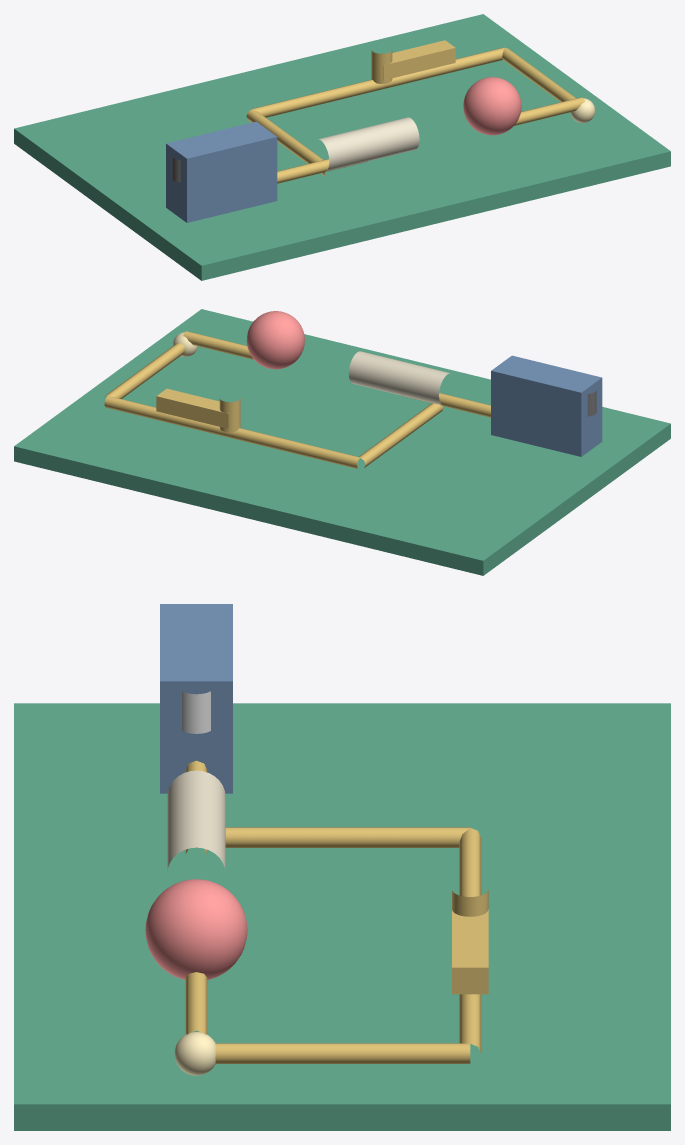
The model's file is circuit-board.glb.
3 views of the same model, one above another, from view 1: azimuth 30°, elevation 25°; view 2: azimuth 150°, elevation 25°; view 3: azimuth 270°, elevation 25° (orthographic). The views are drawn at different scales.
Parts seen in each view (by area): view 1: pcb_board, battery, resistor, led, wire_5, switch_contact, wire_3, wire_6, wire_4, wire_2, wire_1, switch_pivot; view 2: pcb_board, battery, resistor, led, wire_5, switch_contact, wire_6, wire_3, wire_4, wire_2, wire_1, switch_pivot; view 3: pcb_board, battery, led, wire_3, wire_6, resistor, switch_contact, current_node, wire_5, wire_2, wire_4, battery_positive (+1 smaller).
Boxes of the visible parts, left/top/right/bottom form: pcb_board: left=14, top=14, right=670, bottom=280; battery: left=166, top=121, right=277, bottom=222; resistor: left=318, top=117, right=419, bottom=171; led: left=463, top=77, right=521, bottom=135; wire_5: left=251, top=72, right=417, bottom=117; switch_contact: left=383, top=40, right=455, bottom=80; wire_3: left=502, top=48, right=576, bottom=101; wire_6: left=246, top=109, right=325, bottom=176; wire_4: left=416, top=47, right=504, bottom=80; wire_2: left=514, top=97, right=584, bottom=125; wire_1: left=277, top=159, right=367, bottom=183; switch_pivot: left=371, top=50, right=392, bottom=83; pcb_board: left=14, top=309, right=670, bottom=575; battery: left=491, top=355, right=602, bottom=456; resistor: left=348, top=351, right=449, bottom=405; led: left=246, top=311, right=304, bottom=369; wire_5: left=194, top=421, right=359, bottom=468; switch_contact: left=156, top=388, right=228, bottom=428; wire_6: left=359, top=403, right=443, bottom=467; wire_3: left=104, top=343, right=185, bottom=398; wire_4: left=104, top=396, right=195, bottom=429; wire_2: left=183, top=331, right=253, bottom=359; wire_1: left=400, top=393, right=490, bottom=417; switch_pivot: left=219, top=398, right=240, bottom=432; pcb_board: left=14, top=703, right=670, bottom=1130; battery: left=160, top=604, right=232, bottom=793; led: left=145, top=879, right=247, bottom=979; wire_3: left=215, top=1043, right=470, bottom=1063; wire_6: left=196, top=827, right=470, bottom=847; resistor: left=167, top=770, right=225, bottom=872; switch_contact: left=452, top=909, right=488, bottom=994; current_node: left=174, top=1032, right=215, bottom=1075; wire_5: left=459, top=828, right=481, bottom=896; wire_2: left=185, top=972, right=207, bottom=1035; wire_4: left=459, top=994, right=481, bottom=1053; battery_positive: left=182, top=691, right=210, bottom=733.
Size of the model in its own units: 1.63 by 0.2818 by 1.13.
